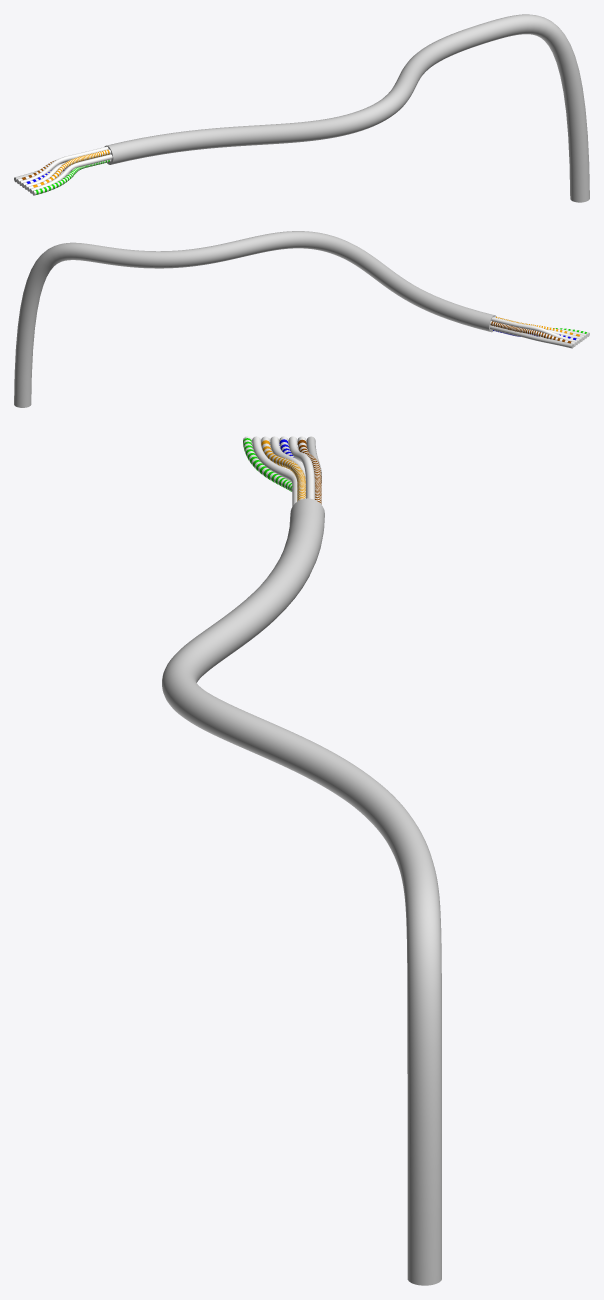
Rendered from wipe.fbx.
The picture shows the model from 3 angles, top to bottom: view 1: azimuth 30°, elevation 25°; view 2: azimuth 150°, elevation 25°; view 3: azimuth 270°, elevation 25°; orthographic projection. The views are drawn at different scales.
Visible parts, largest first — view 1: NurbsPath, NurbsPath.003, NurbsPath.006, NurbsPath.002, NurbsPath.005; view 2: NurbsPath, NurbsPath.008, NurbsPath.001, NurbsPath.002; view 3: NurbsPath.
Part boxes in pixels (x1,y1,x2,y2): NurbsPath: (104, 14, 589, 202); NurbsPath.003: (27, 149, 111, 191); NurbsPath.006: (29, 154, 112, 193); NurbsPath.002: (19, 146, 108, 185); NurbsPath.005: (32, 159, 111, 195); NurbsPath: (14, 231, 496, 407); NurbsPath.008: (490, 325, 573, 348); NurbsPath.001: (490, 321, 575, 346); NurbsPath.002: (491, 317, 578, 345); NurbsPath: (162, 498, 441, 1285).
Bounding box in the file's own units: 352 × 118 × 80.69.
